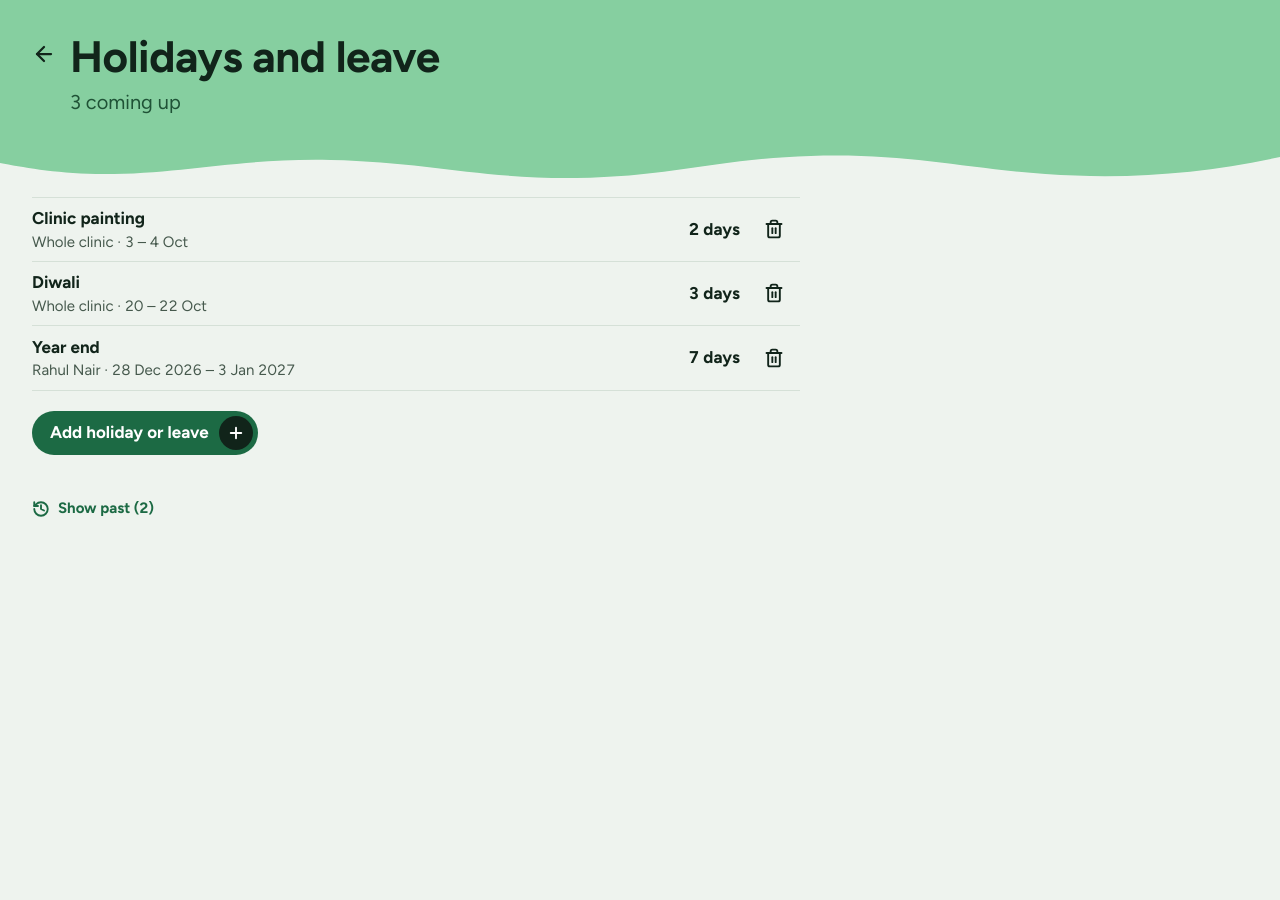
Scenario: Closures (plan §9, D84) › opens the sheet to add one, and puts it away again
Click the button "Add holiday or leave" at (145, 433), box [32, 411, 258, 455]
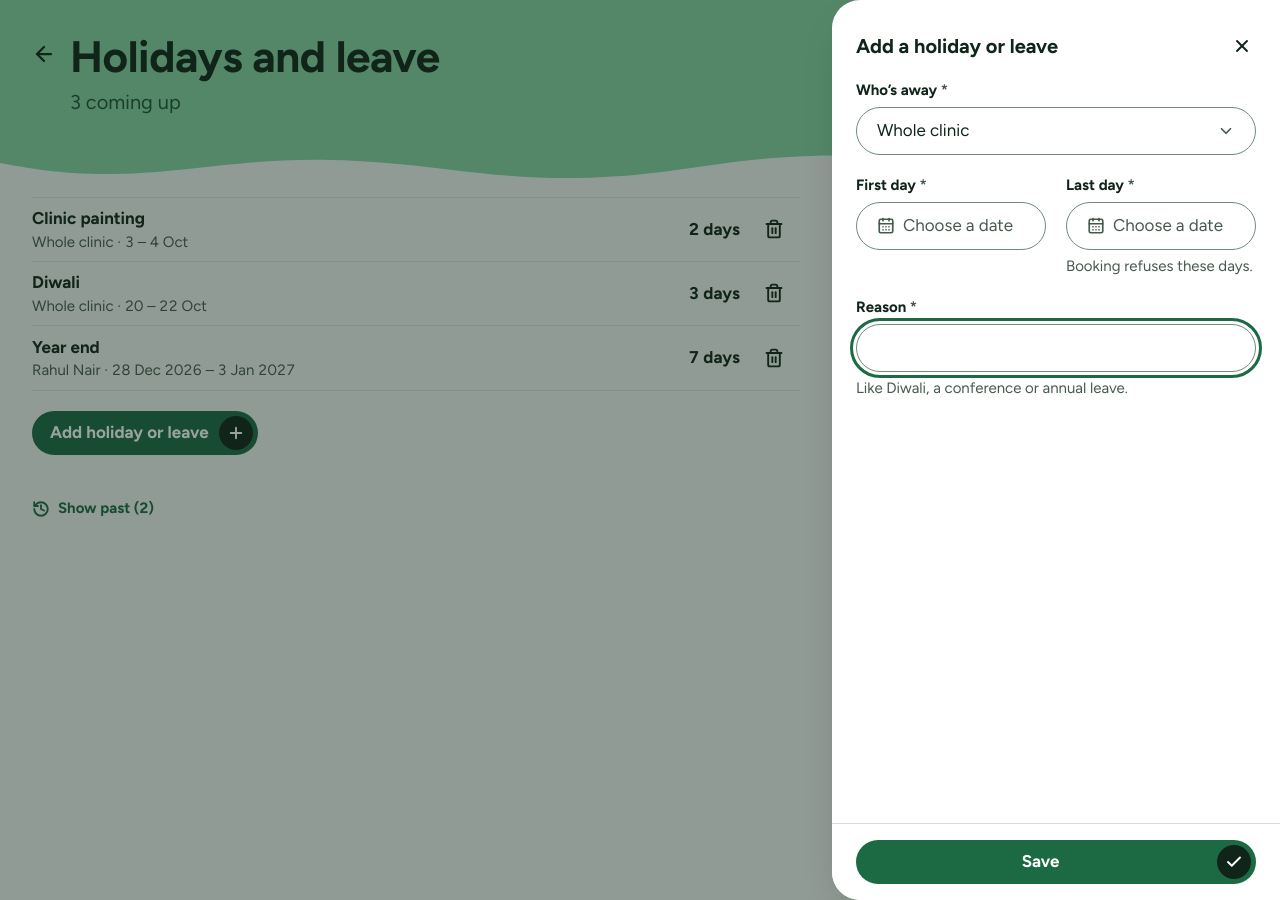
Click the button named "Close" at (1242, 46), box [1220, 24, 1264, 68]
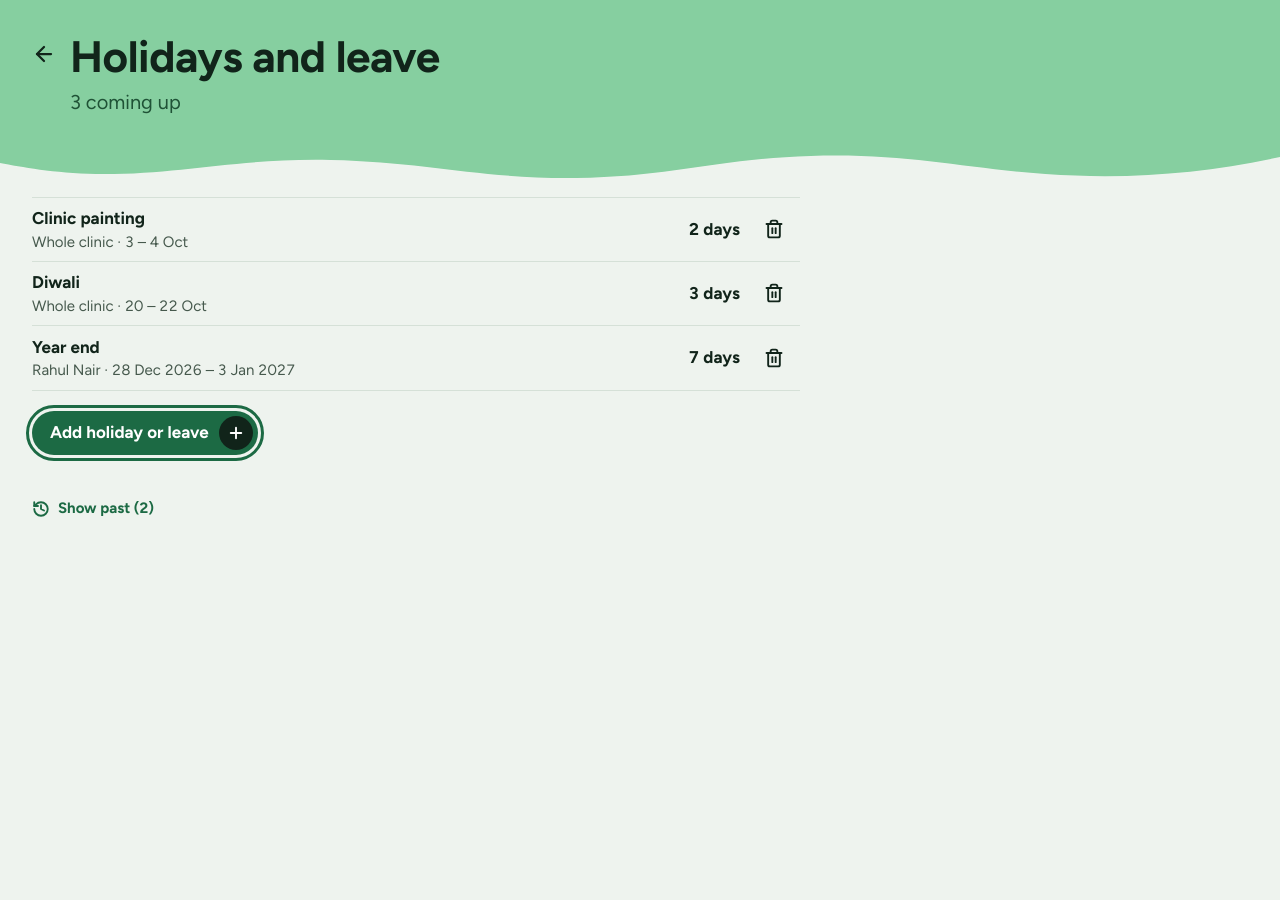
Result: the heading "Add a holiday or leave" is gone
